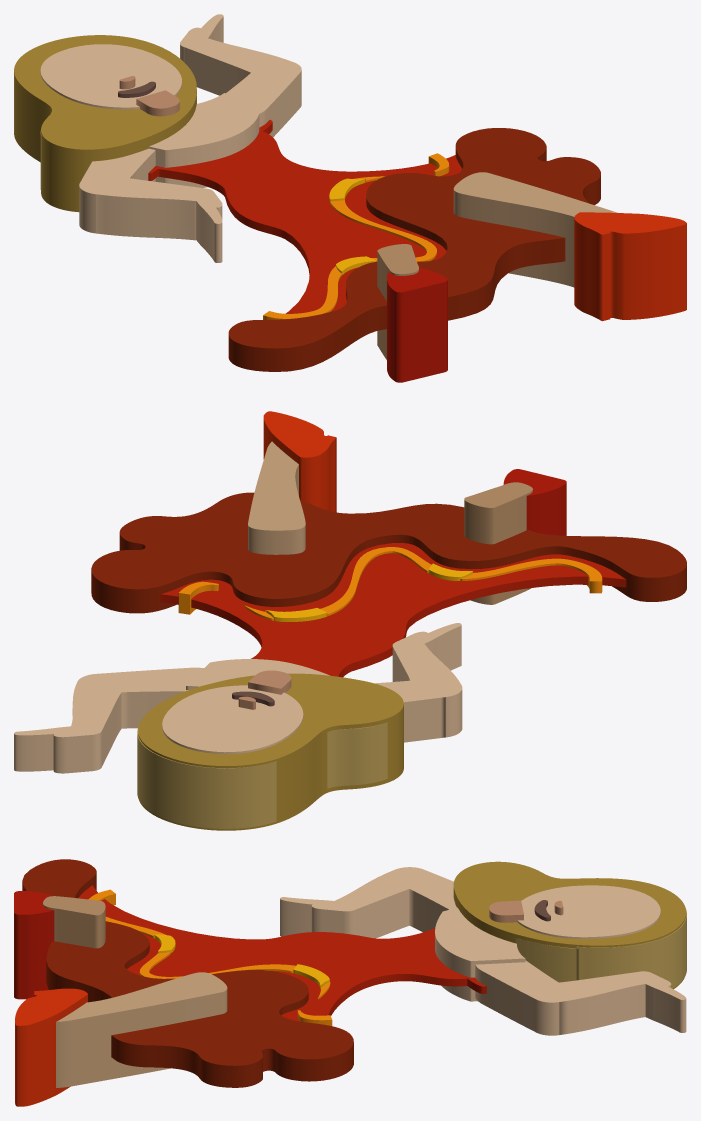
File: emoji_u1f483_1f3fc.glb
3 views of the same model, one above another, from view 1: azimuth 30°, elevation 25°; view 2: azimuth 150°, elevation 25°; view 3: azimuth 270°, elevation 25° (orthographic). The views are drawn at different scales.
Visible parts, largest first — view 1: emoji_u1f483_1f3fc; view 2: emoji_u1f483_1f3fc; view 3: emoji_u1f483_1f3fc.
Part boxes in pixels (x1,y1,x2,y2): emoji_u1f483_1f3fc: [14, 14, 686, 382]; emoji_u1f483_1f3fc: [14, 411, 686, 830]; emoji_u1f483_1f3fc: [14, 859, 686, 1106].
Size of the model in its own units: 0.0241 by 0.0048 by 0.0332.
